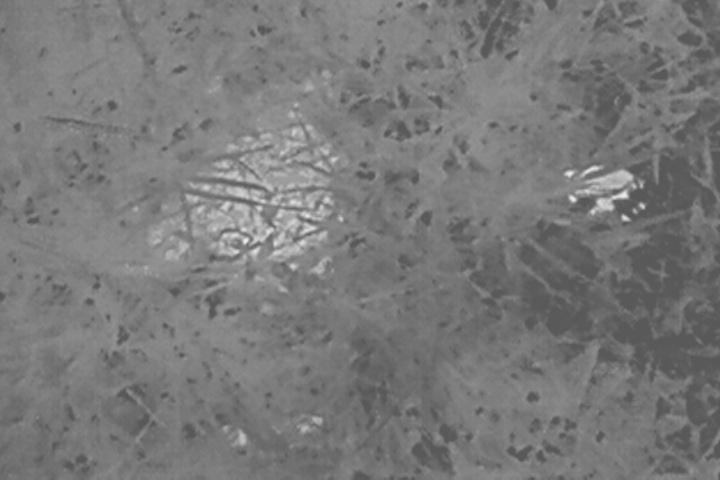landmine: (154, 116, 352, 283)
